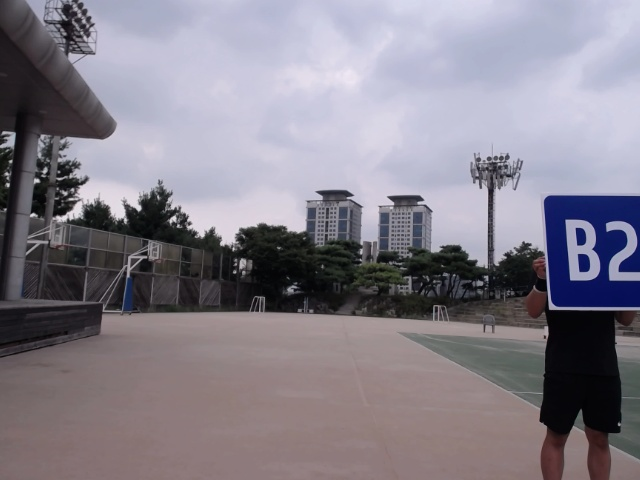delivery_b2: (540, 192, 639, 311)
